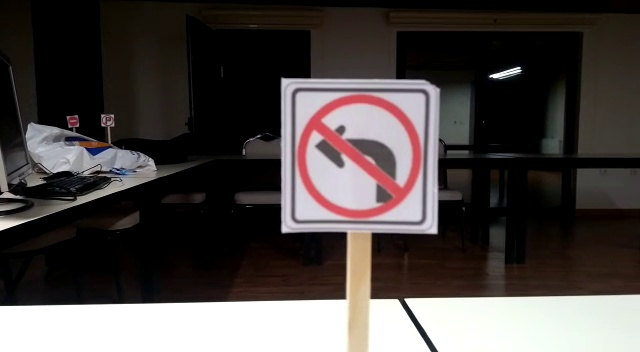sola_donulmez: (281, 79, 435, 229)
